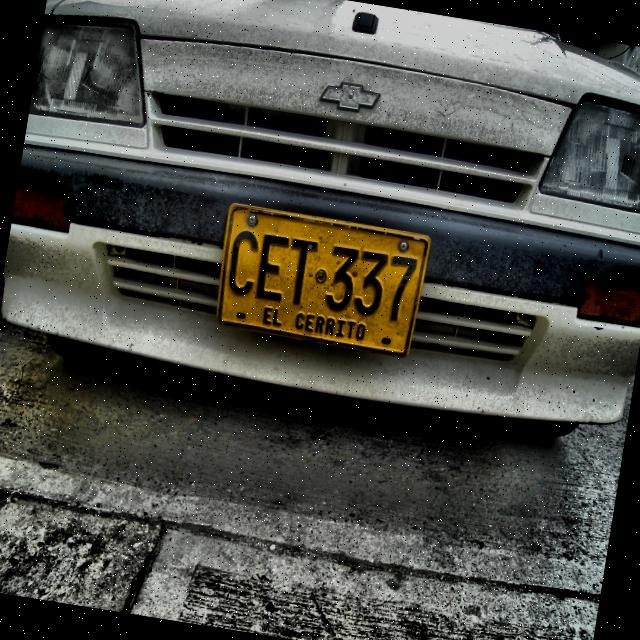3: (352, 247, 391, 320), (324, 245, 361, 314)
7: (381, 252, 418, 326)
C: (225, 225, 264, 298)
E: (254, 230, 292, 304)
T: (282, 236, 320, 306)
